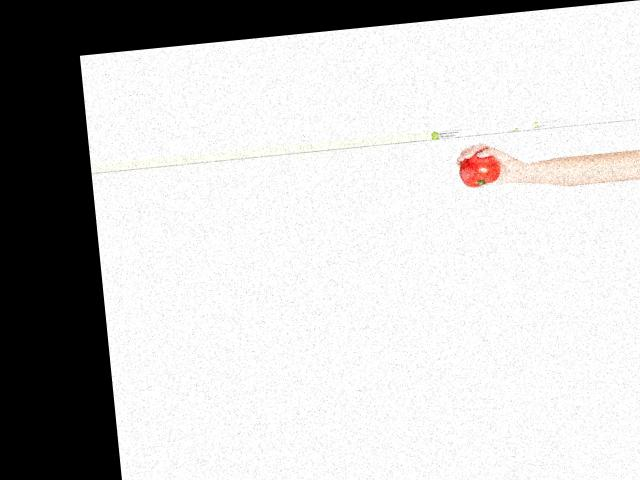tomato: (458, 150, 503, 188)
